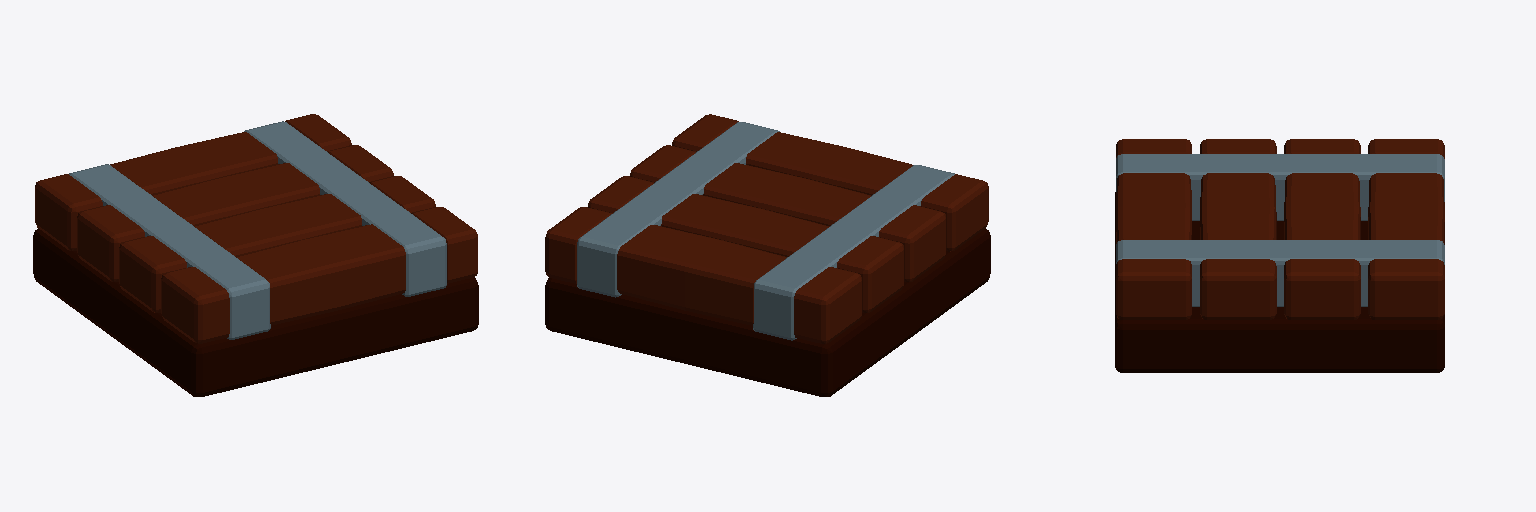
The model's file is ground_plank.obj.
3 views of the same model, side by side, from view 1: azimuth 30°, elevation 25°; view 2: azimuth 150°, elevation 25°; view 3: azimuth 270°, elevation 25° (orthographic).
Parts seen in each view (by area): view 1: ground_plank; view 2: ground_plank; view 3: ground_plank.
Boxes of the visible parts, x1,y1,x2,y2 form: ground_plank: [33, 114, 478, 396]; ground_plank: [545, 114, 990, 396]; ground_plank: [1115, 139, 1444, 372].
Bounding box in the file's own units: 8 × 2.71 × 8.